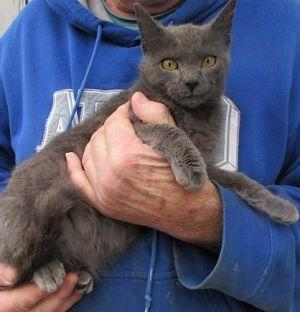rblue: (132, 1, 240, 114)
